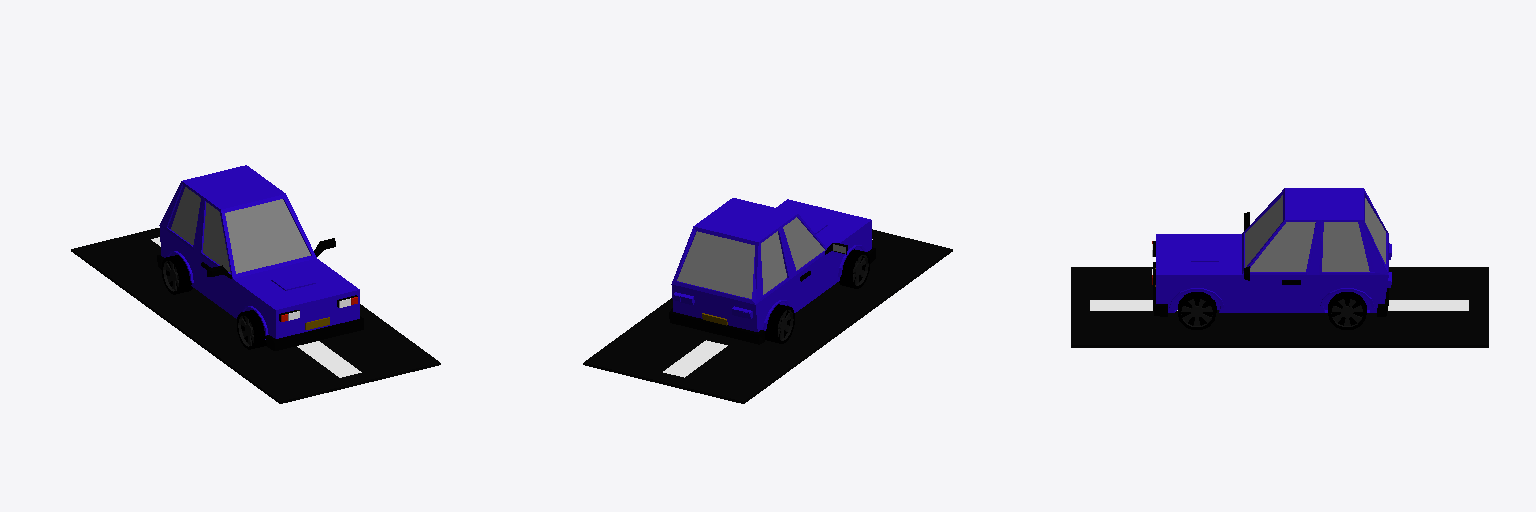
File: Car.obj
The picture shows the model from 3 angles: view 1: azimuth 30°, elevation 25°; view 2: azimuth 150°, elevation 25°; view 3: azimuth 270°, elevation 25°; orthographic projection.
Parts seen in each view (by area): view 1: Car_Body, Plane, Back_Tire, Front_Tire; view 2: Car_Body, Plane, Front_Tire, Back_Tire; view 3: Car_Body, Plane, Back_Tire, Front_Tire.
Boxes of the visible parts, <box> form: Car_Body: <box>157,165,363,350</box>; Plane: <box>71,228,440,403</box>; Back_Tire: <box>161,255,192,294</box>; Front_Tire: <box>237,310,266,349</box>; Car_Body: <box>669,198,875,344</box>; Plane: <box>583,229,952,403</box>; Front_Tire: <box>839,249,869,288</box>; Back_Tire: <box>765,304,794,343</box>; Car_Body: <box>1152,188,1391,316</box>; Plane: <box>1071,267,1488,347</box>; Back_Tire: <box>1328,292,1366,329</box>; Front_Tire: <box>1178,292,1216,329</box>.
Bounding box in the file's own units: 7.61 × 4.75 × 17.15.